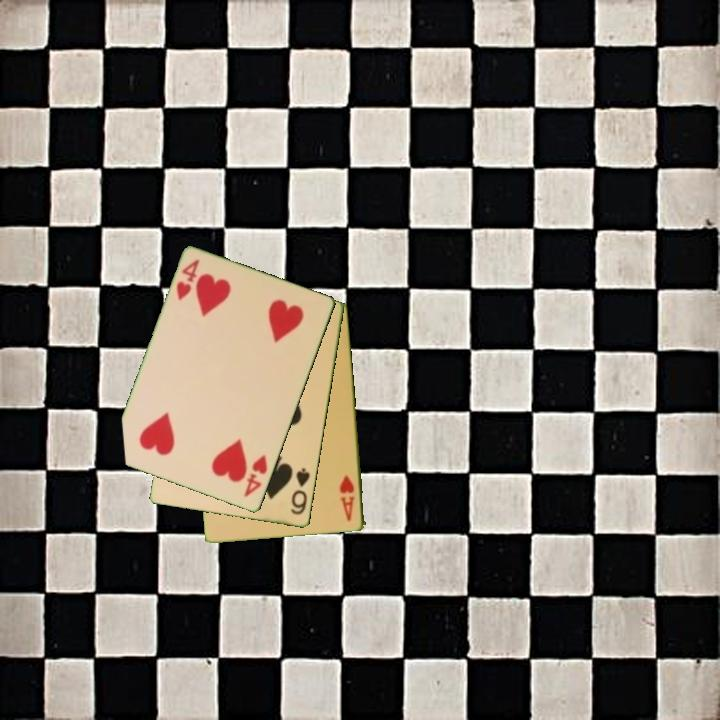4h: (241, 451, 271, 500), (173, 256, 203, 303)
6s: (288, 465, 313, 518)
Ah: (337, 472, 358, 524)
